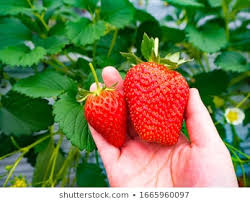ripe: (118, 53, 193, 156), (79, 79, 131, 154)
